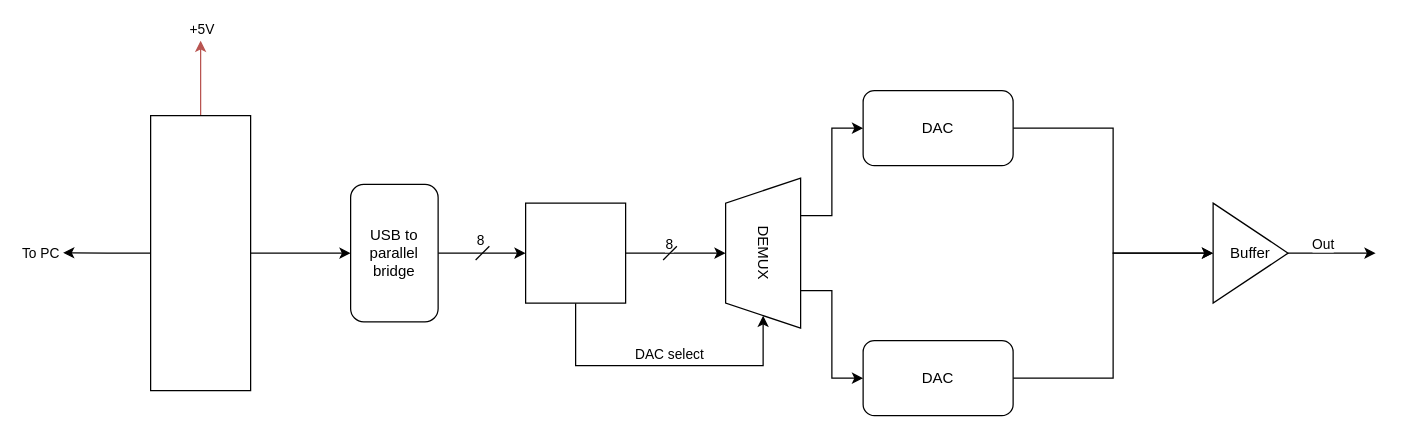
Some shapes in this 1408 by 438 pixel diagram are drawn without their labels. The shapes that lost their labels are listed below. From the top down, each one's centre as x and y in pixels, then its label:
At [200,252]: "USB Port".
At [575,252]: "FPGA".
